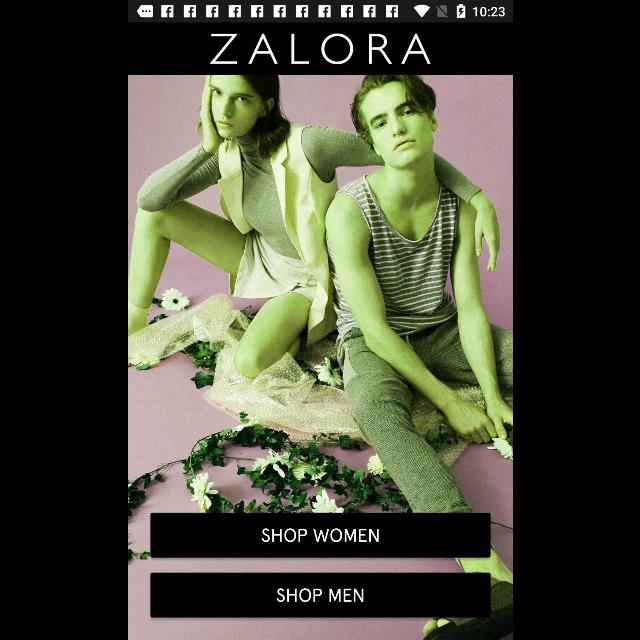backgroundimage: (128, 76, 512, 640)
image: (128, 23, 512, 75)
textbutton: (150, 572, 490, 618), (150, 512, 490, 558)
uppertaskbar: (128, 1, 512, 23)
